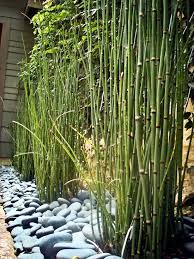bamboo: (87, 1, 184, 249), (22, 3, 82, 201)
